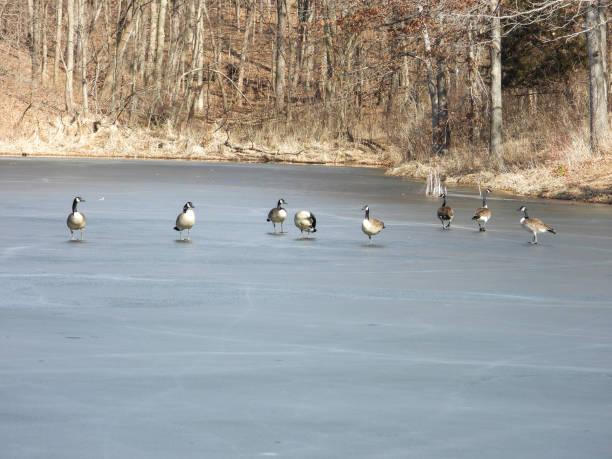Canadian-Goose: (516, 203, 556, 246), (64, 196, 88, 238), (358, 204, 385, 241), (174, 201, 199, 239), (473, 186, 494, 231), (265, 198, 290, 228), (436, 192, 454, 231), (294, 209, 319, 234)
